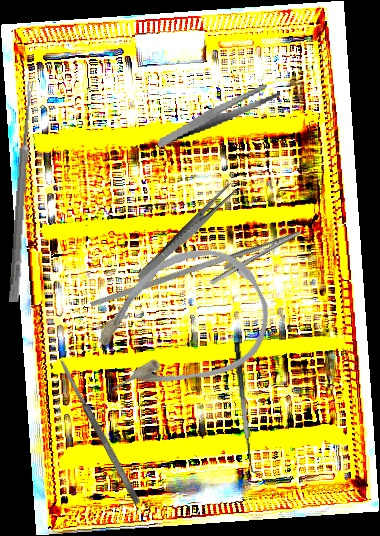Cannula: (70, 227, 287, 422)
Dressing Forceps: (135, 181, 239, 284), (151, 82, 286, 148)
Needle Holder: (89, 205, 309, 347)
Spatula Surgical: (57, 357, 142, 506), (233, 341, 263, 476)
Surgical Spoon: (8, 80, 36, 303)
